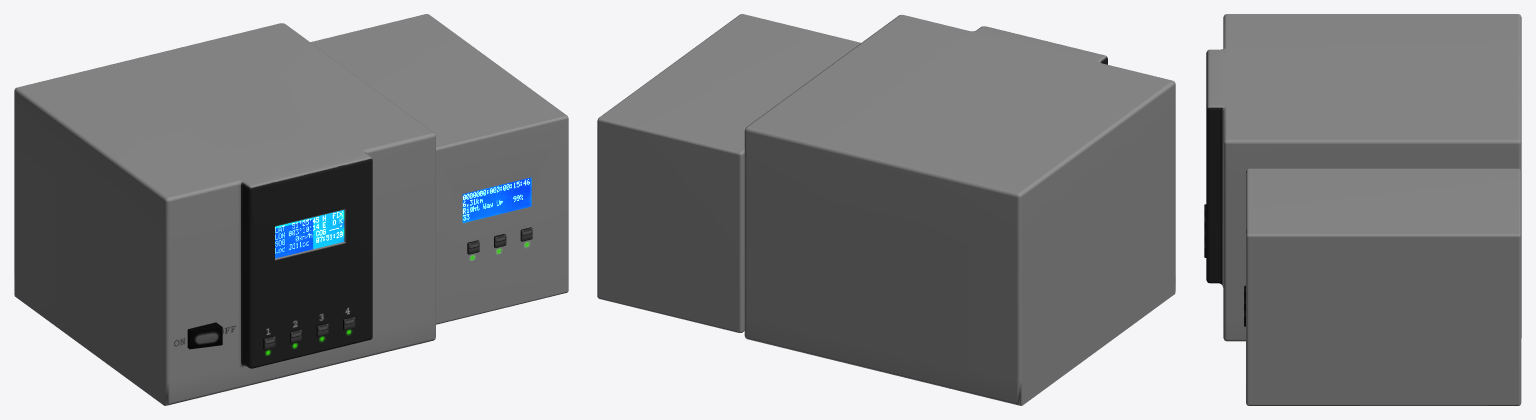
The model's file is DeviceB1.fbx.
3 renders of one model, left to right at view 1: azimuth 30°, elevation 25°; view 2: azimuth 150°, elevation 25°; view 3: azimuth 270°, elevation 25°, orthographic. The views are drawn at different scales.
Visible parts, largest first — view 1: DeviceB1; view 2: DeviceB1; view 3: DeviceB1.
Part boxes in pixels (x1,y1,x2,y2): DeviceB1: [14, 14, 568, 405]; DeviceB1: [597, 14, 1175, 405]; DeviceB1: [1204, 14, 1521, 405].
Size of the model in its own units: 34.55 by 16.53 by 23.56.
